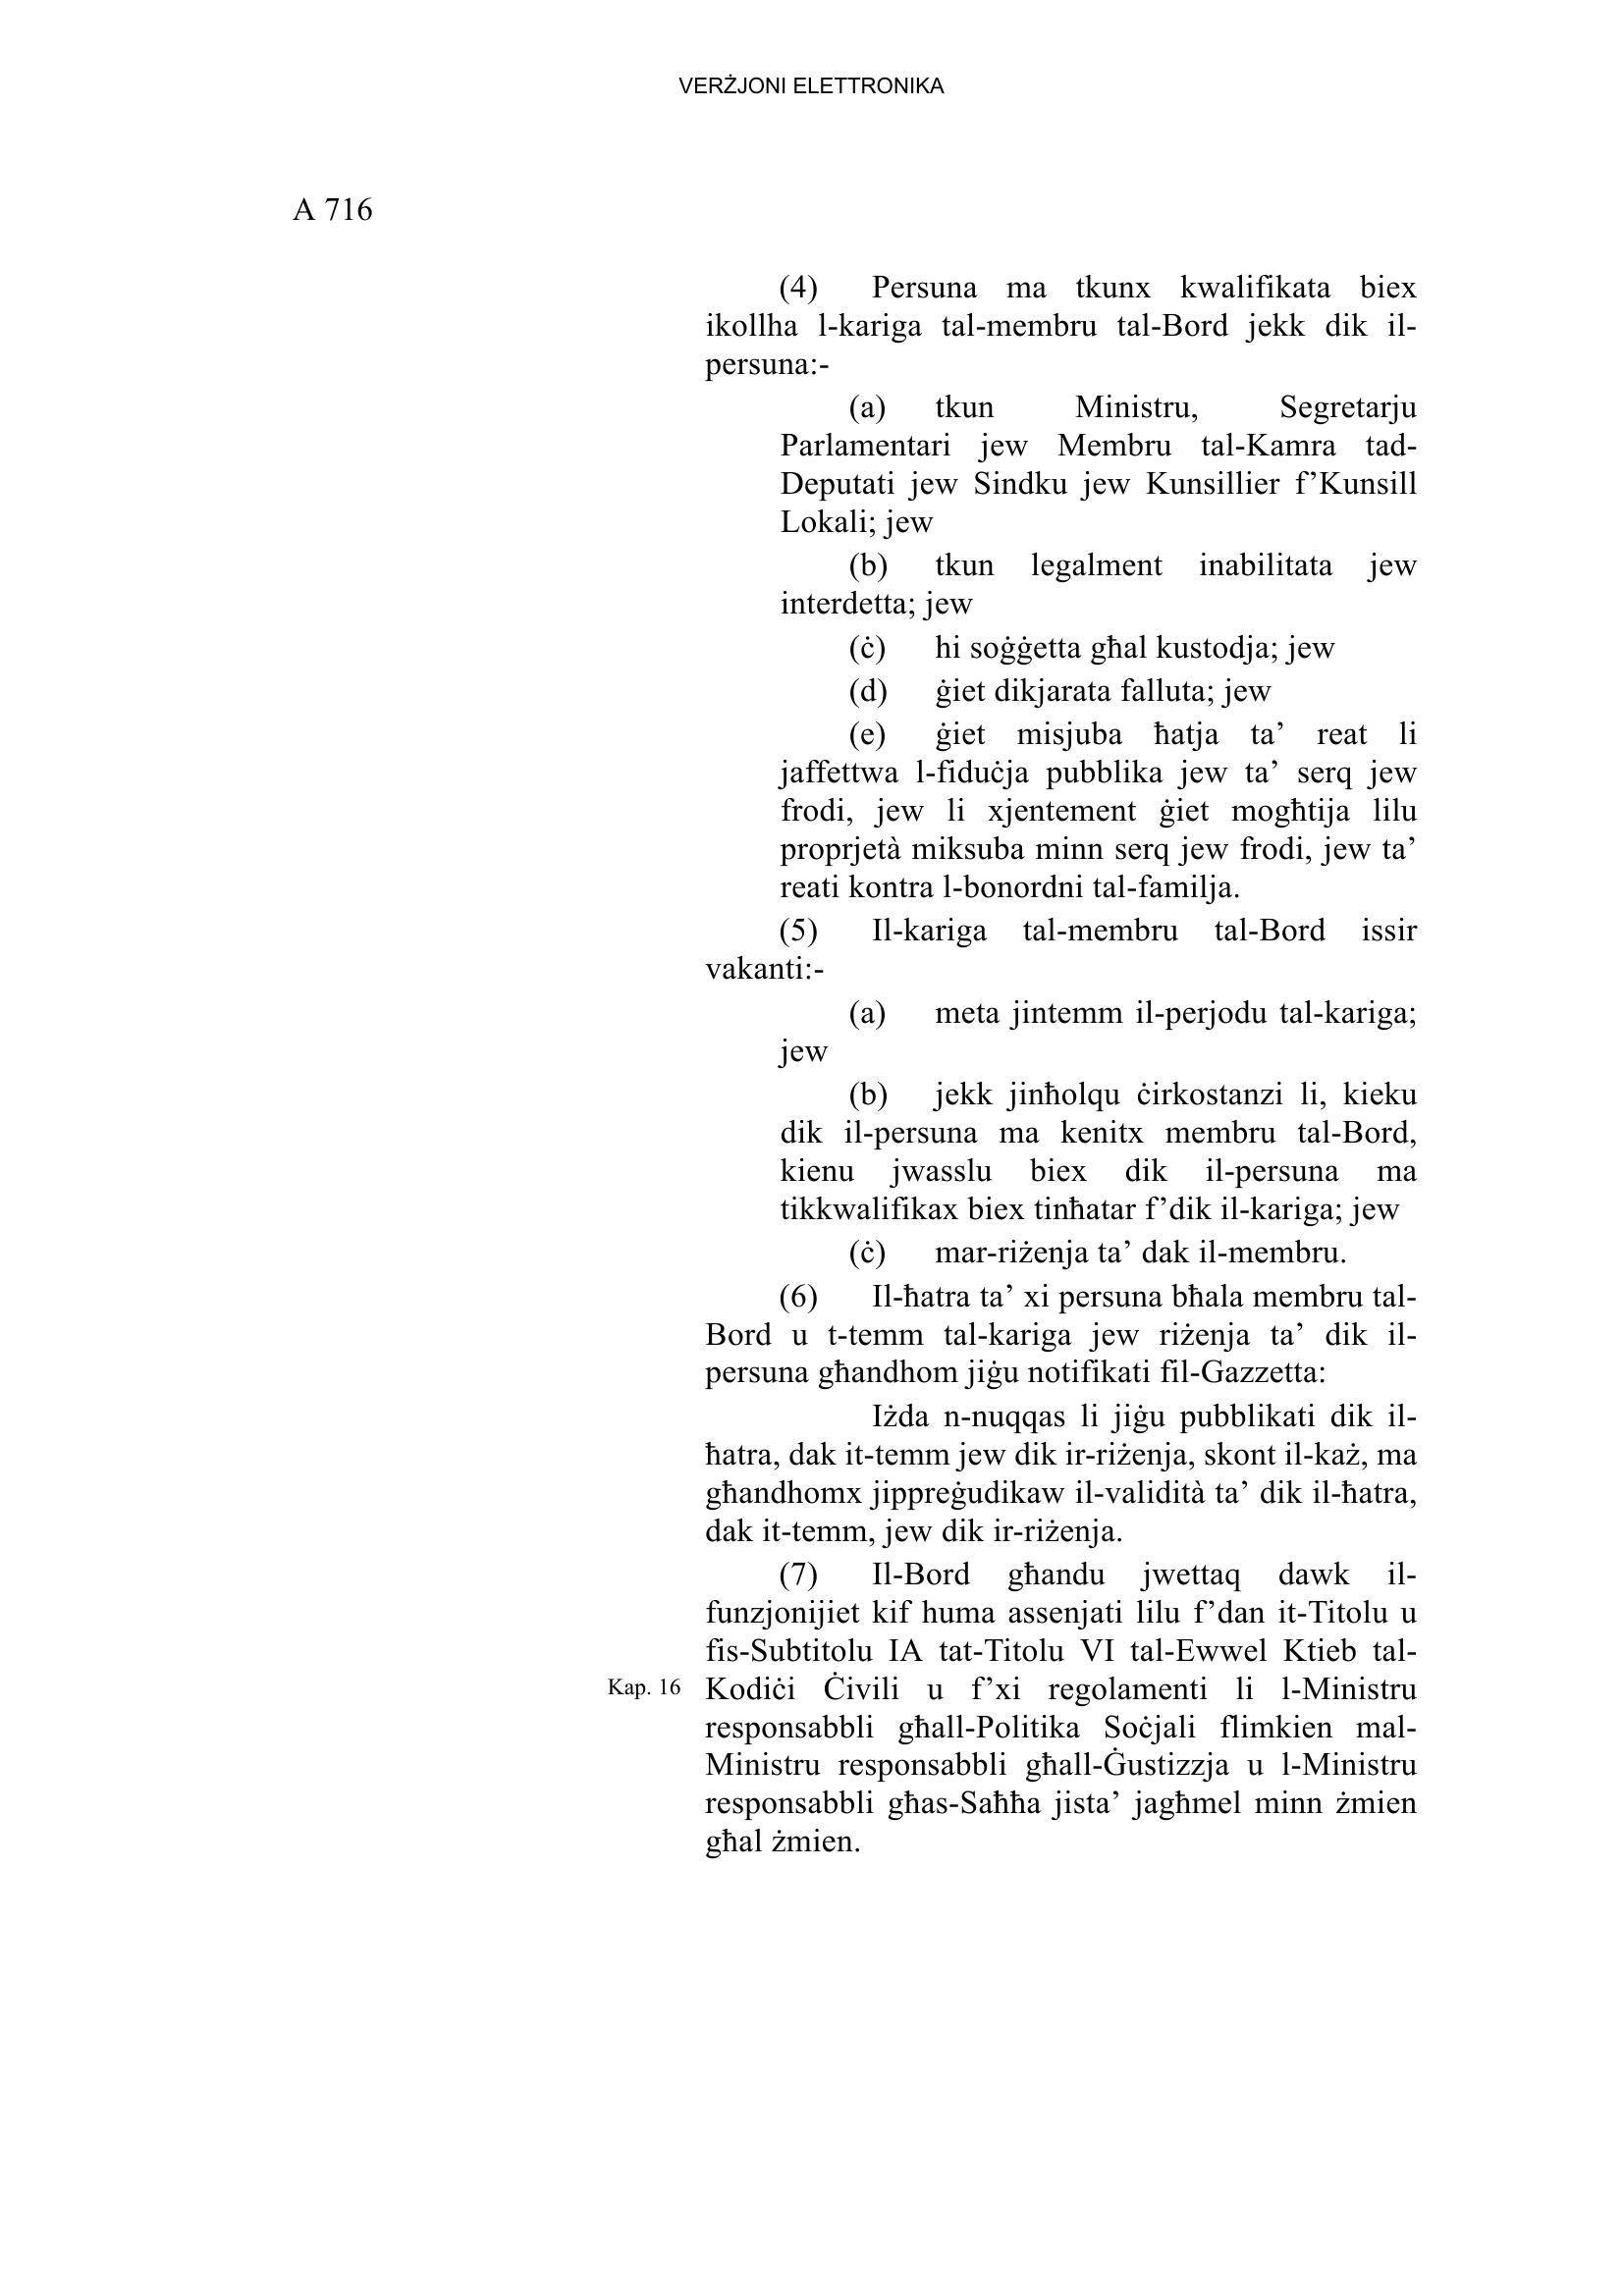text: (692, 265, 1434, 1881)
